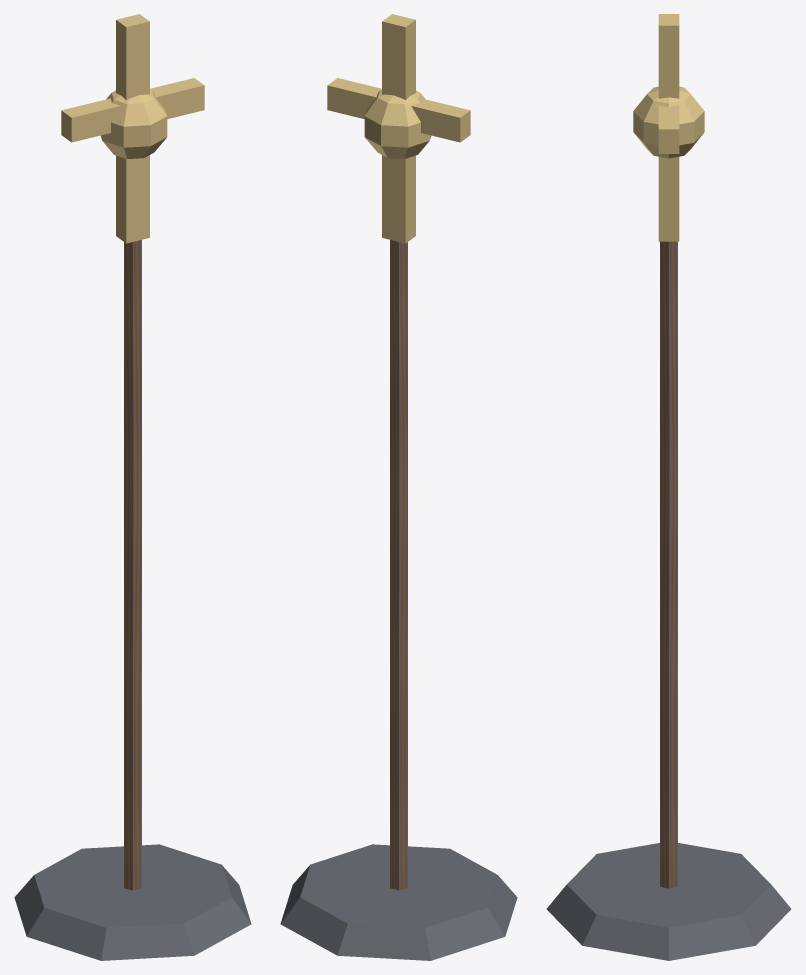
3 views of the same model, side by side, from view 1: azimuth 30°, elevation 25°; view 2: azimuth 150°, elevation 25°; view 3: azimuth 270°, elevation 25° (orthographic).
Parts seen in each view (by area): view 1: processional-cross; view 2: processional-cross; view 3: processional-cross.
Part boxes in pixels (x1=…): processional-cross: x1=14, y1=14, x2=251, y2=960; processional-cross: x1=280, y1=14, x2=517, y2=960; processional-cross: x1=546, y1=14, x2=791, y2=960.
Bounding box in the file's own units: 0.72 × 2.88 × 0.72.
Materials: 3 (1 with a texture image).
